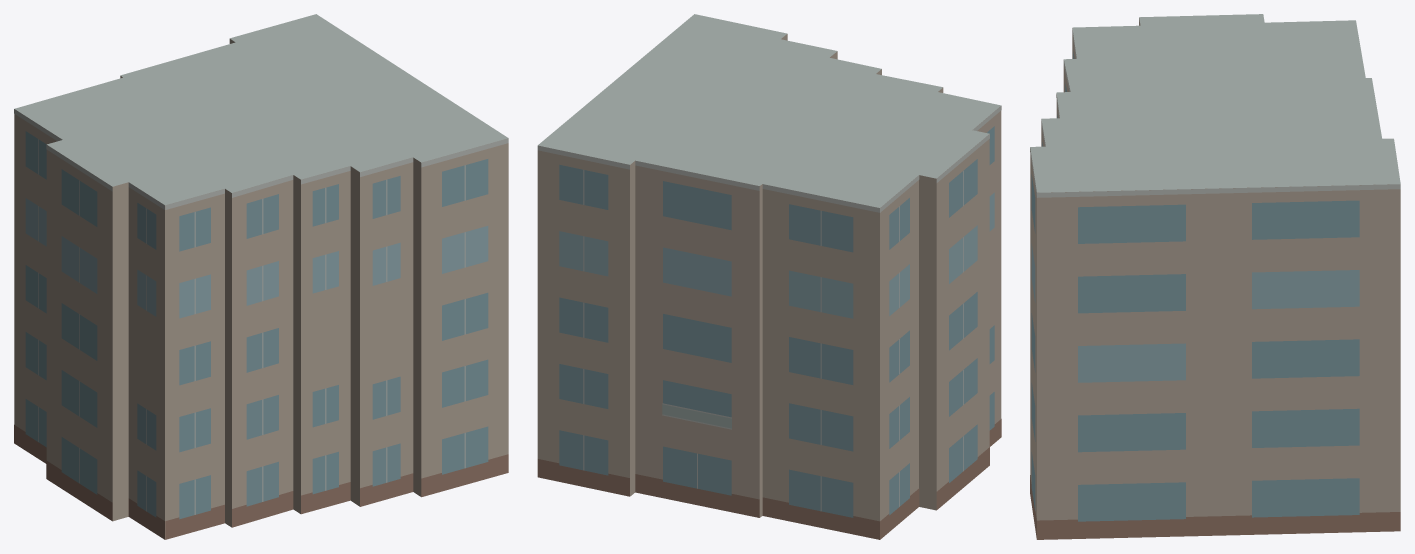
Rendered from survey-upis-32707870.glb.
3 renders of one model, left to right at view 1: azimuth 30°, elevation 25°; view 2: azimuth 150°, elevation 25°; view 3: azimuth 270°, elevation 25°, orthographic. The views are drawn at different scales.
Visible parts, largest first — view 1: survey-upis-32707870.tmp; view 2: survey-upis-32707870.tmp; view 3: survey-upis-32707870.tmp.
Boxes of the visible parts, <box> form: survey-upis-32707870.tmp: <box>14,14,508,539</box>; survey-upis-32707870.tmp: <box>537,14,1001,539</box>; survey-upis-32707870.tmp: <box>1030,14,1400,539</box>.
Bounding box in the file's own units: 18.57 × 16.8 × 16.26.
